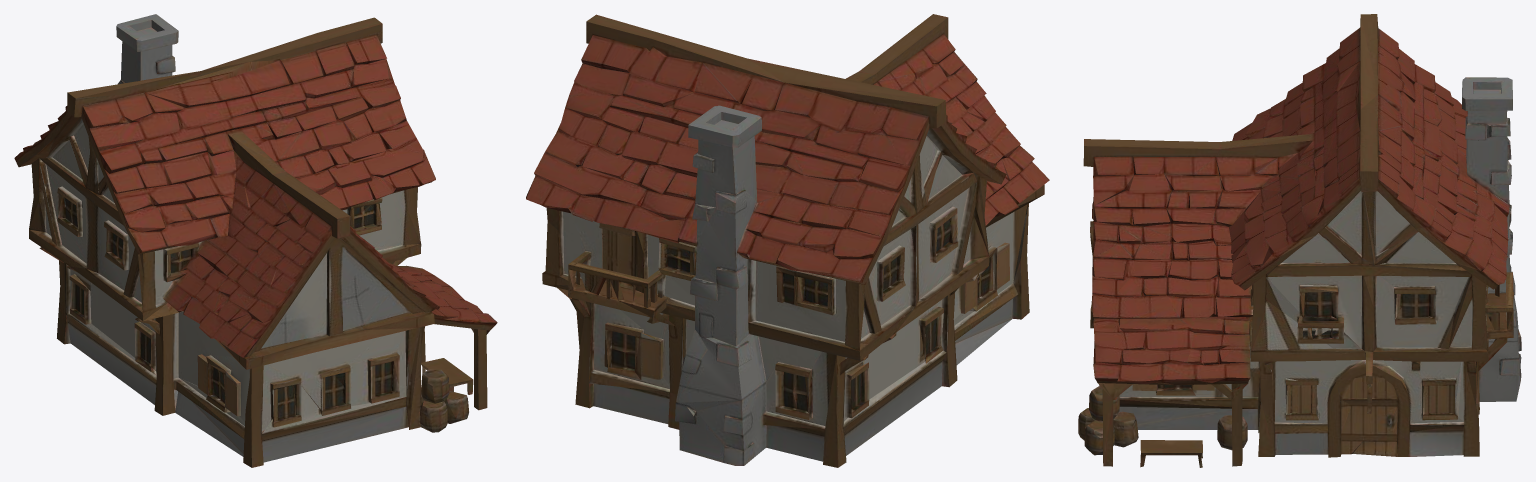
The model's file is tavern.glb.
3 renders of one model, left to right at view 1: azimuth 30°, elevation 25°; view 2: azimuth 150°, elevation 25°; view 3: azimuth 270°, elevation 25°, orthographic. The views are drawn at different scales.
Visible parts, largest first — view 1: TavernShell; view 2: TavernShell; view 3: TavernShell.
Boxes of the visible parts, left/top/right/bottom form: TavernShell: left=14, top=14, right=497, bottom=467; TavernShell: left=526, top=14, right=1049, bottom=467; TavernShell: left=1078, top=14, right=1521, bottom=467.
Size of the model in its own units: 1.85 by 1.52 by 2.
1 material, 1 textured.
